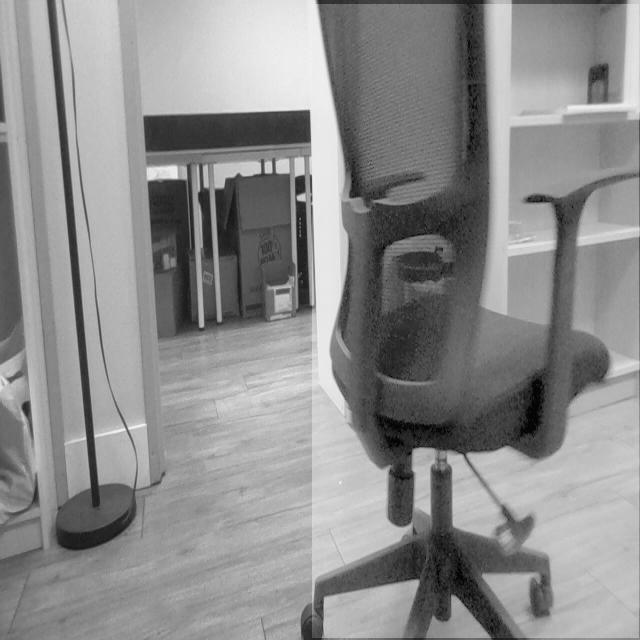chair: (312, 5, 640, 640)
